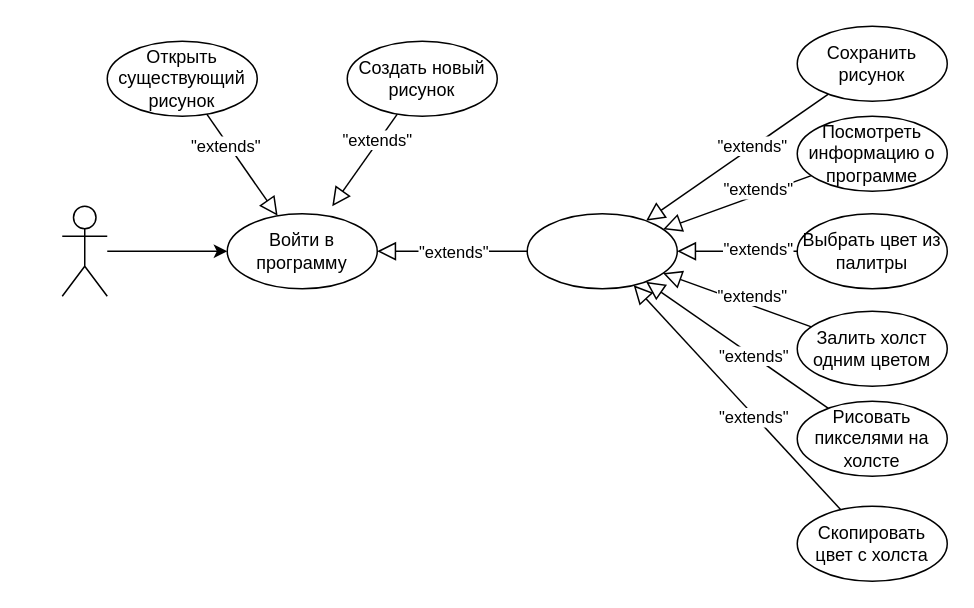
Some shapes in this 974 by 608 pixel diagram are drawn without their labels. The box of each missing label's shape, as (x1, y1, x2, y2) in pixels:
Пользователь: (61, 205, 107, 296)
Рисовать: (526, 212, 677, 289)
